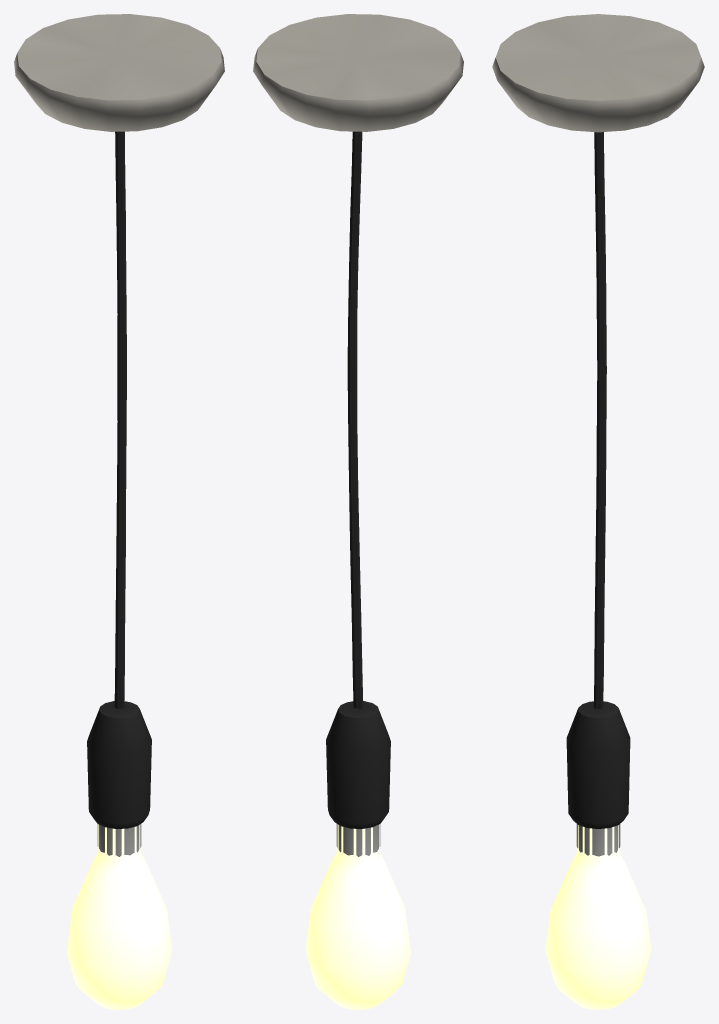
The model's file is ceiling_lamp_bulb.glb.
The picture shows the model from 3 angles, left to right: view 1: azimuth 30°, elevation 25°; view 2: azimuth 150°, elevation 25°; view 3: azimuth 270°, elevation 25°; orthographic projection.
Parts seen in each view (by area): view 1: ceiling_lamp_bulb; view 2: ceiling_lamp_bulb; view 3: ceiling_lamp_bulb.
Boxes of the visible parts, box(x1,y1,x2,y2) form: ceiling_lamp_bulb: box(14, 14, 224, 1009); ceiling_lamp_bulb: box(253, 14, 463, 1009); ceiling_lamp_bulb: box(492, 14, 704, 1009).
Bounding box in the file's own units: 0.124 × 0.6101 × 0.124.
